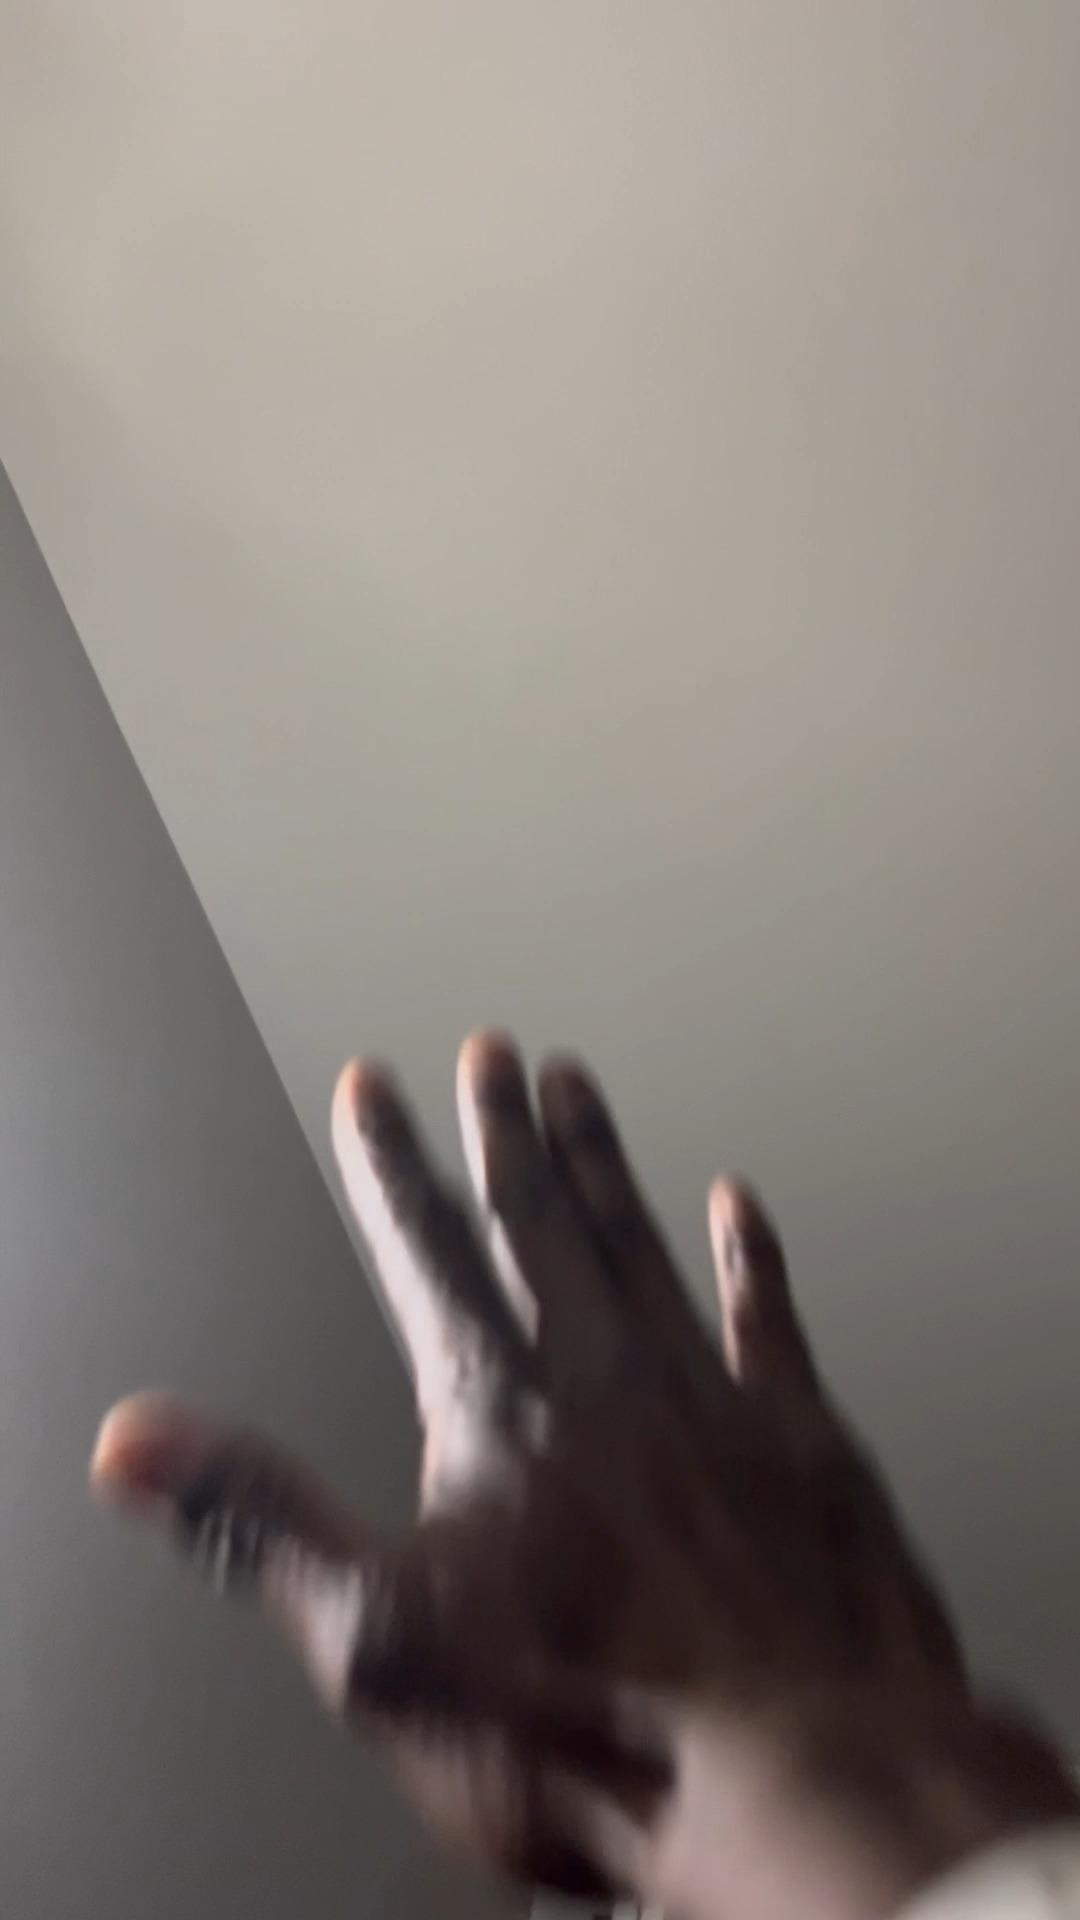Paper: (96, 1036, 1026, 1908)
